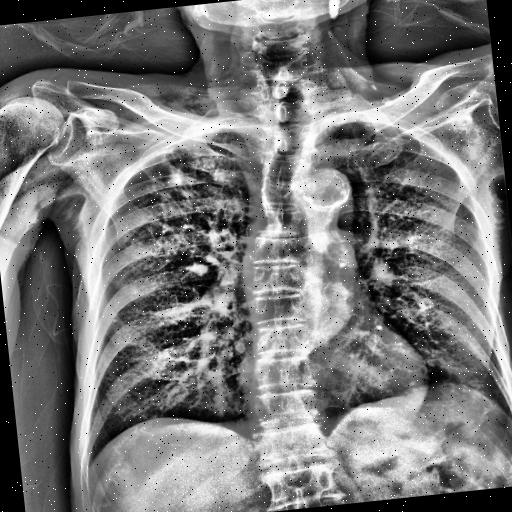0- Aortic enlargement: (294, 166, 355, 247), (295, 166, 356, 236), (294, 164, 354, 213)
11- Pleural thickening: (156, 139, 184, 156)
13- Pulmonary fibrosis: (141, 160, 198, 222), (147, 163, 199, 217)
9- Other lesion: (169, 174, 185, 188)
